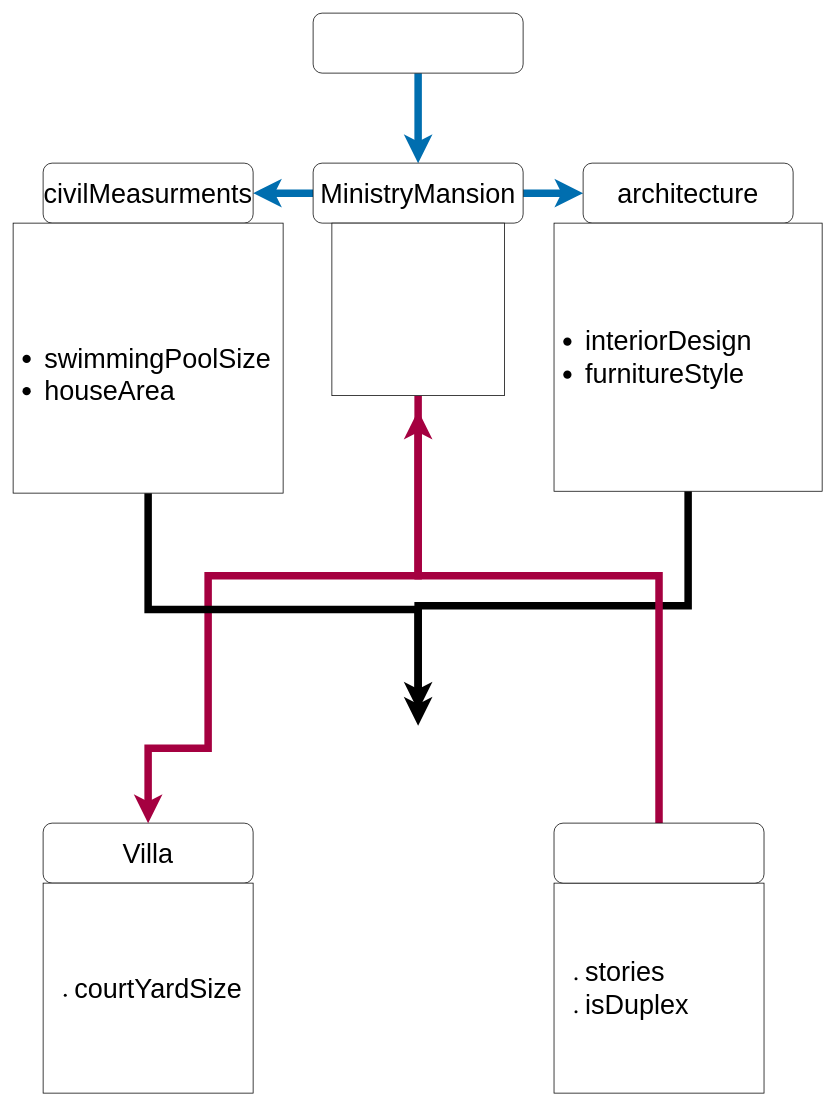
The diagram is 836 pixels wide and 1106 high, and some of its shapes have lost their labels. The centre of each missing label's shape, as x and y in pixels:
"Condomium" goes at point (658, 852).
"Main" goes at point (417, 42).
"name address" goes at point (417, 309).
